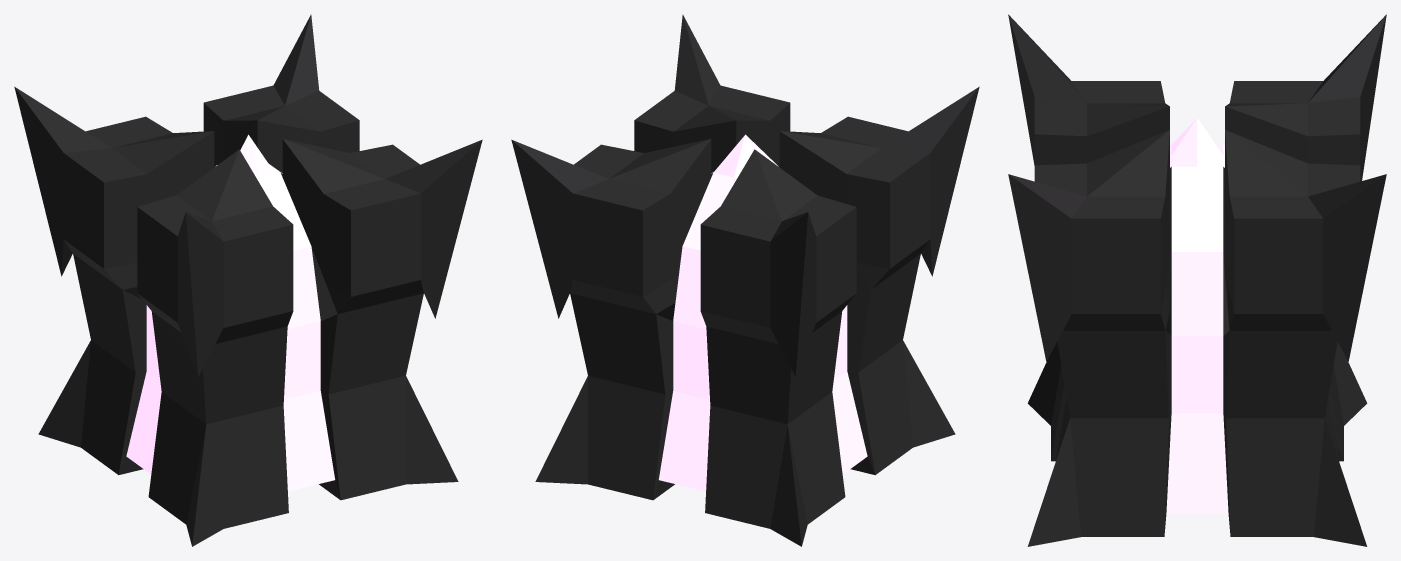
File: cube_m_ Underworld.fbx
The picture shows the model from 3 angles, left to right: view 1: azimuth 30°, elevation 25°; view 2: azimuth 150°, elevation 25°; view 3: azimuth 270°, elevation 25°; orthographic projection. The views are drawn at different scales.
Parts seen in each view (by area): view 1: Cube; view 2: Cube; view 3: Cube.
Boxes of the visible parts, x1=… form: Cube: x1=14, y1=14, x2=482, y2=546; Cube: x1=511, y1=14, x2=979, y2=546; Cube: x1=1008, y1=14, x2=1386, y2=546.
Size of the model in its own units: 310 by 344 by 310.
